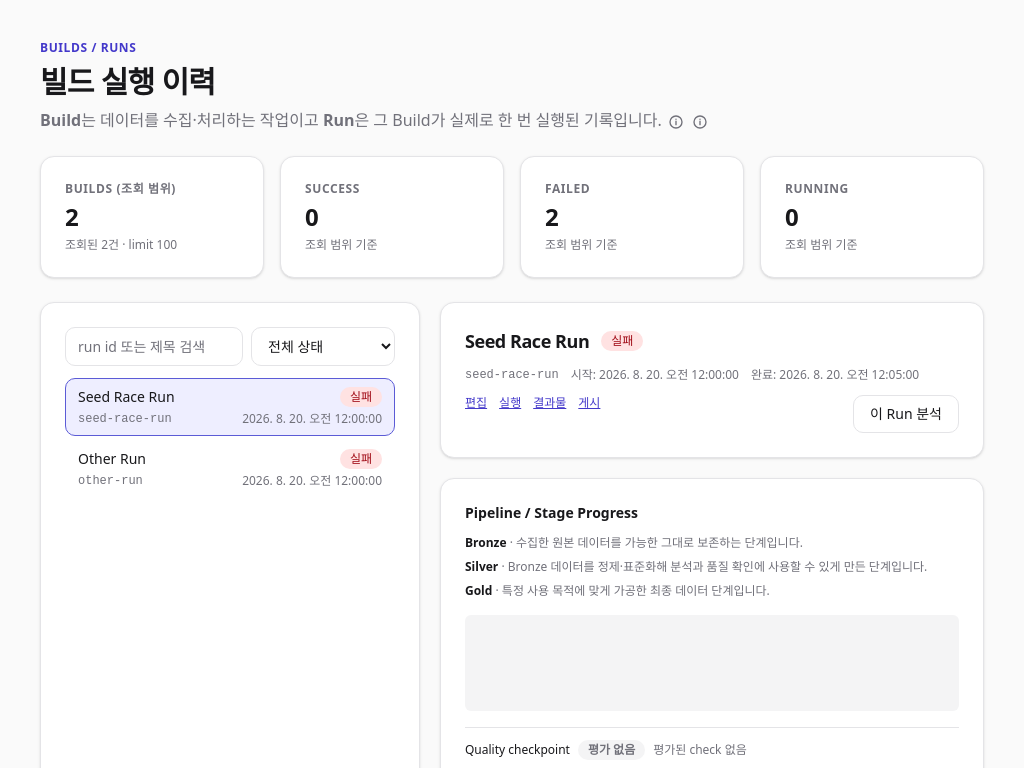
C1 — Builds Kubi seed vs. context back-fill race › discards a pending analyze intent when the selected run changes before it seeds
This screenshot has width=1024, height=768.
Click the button "이 Run 분석". click: {"x": 906, "y": 414}
box: x1=853 y1=395 x2=959 y2=433
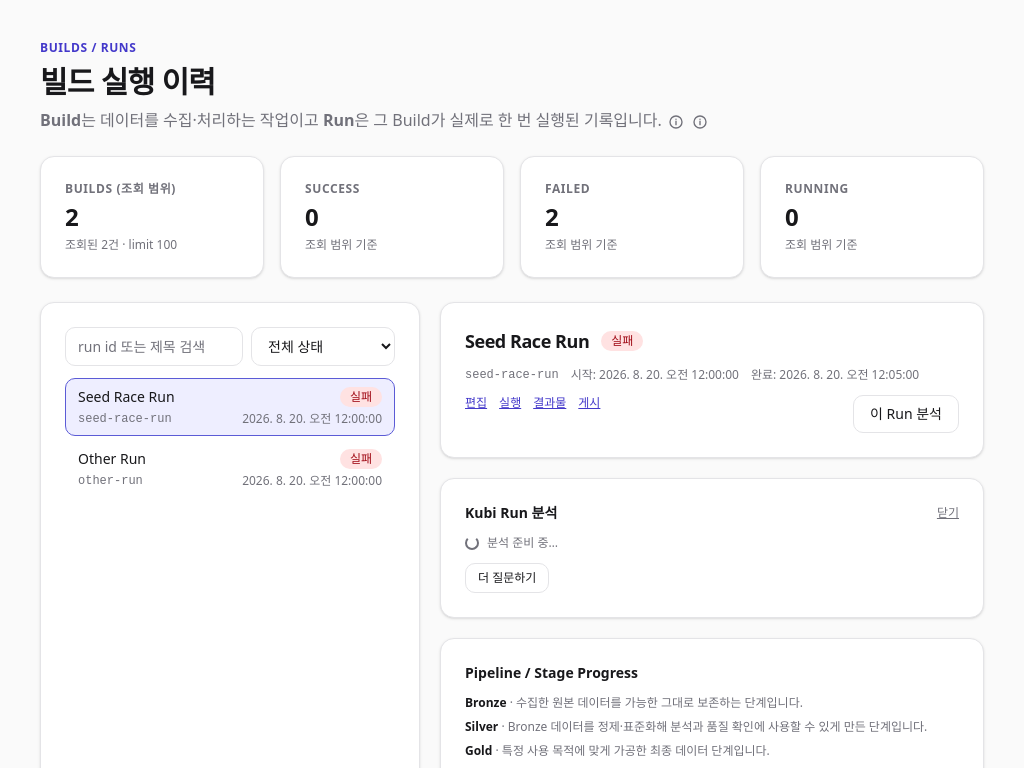
// 다른 run 선택 → 이전 pending analyze 의도가 폐기돼야 한다.
Click the text "Other Run". click: {"x": 112, "y": 459}
box: x1=78 y1=449 x2=146 y2=469
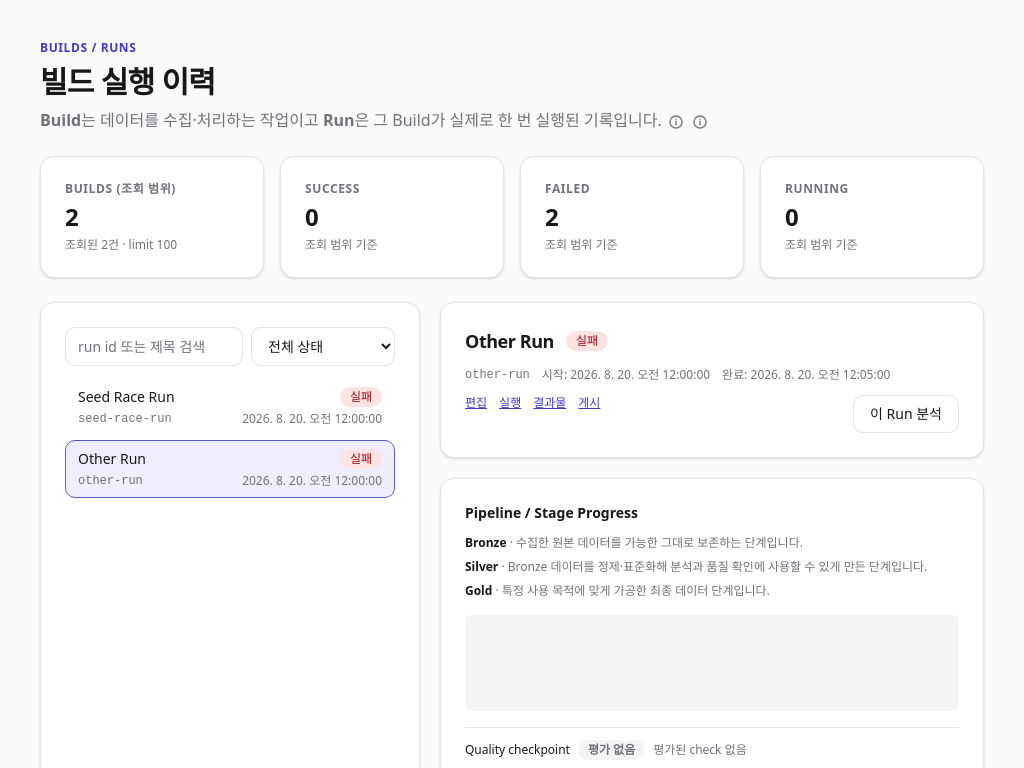
Check: the heading "Other Run" is shown, box x1=465 y1=327 x2=554 y2=355
